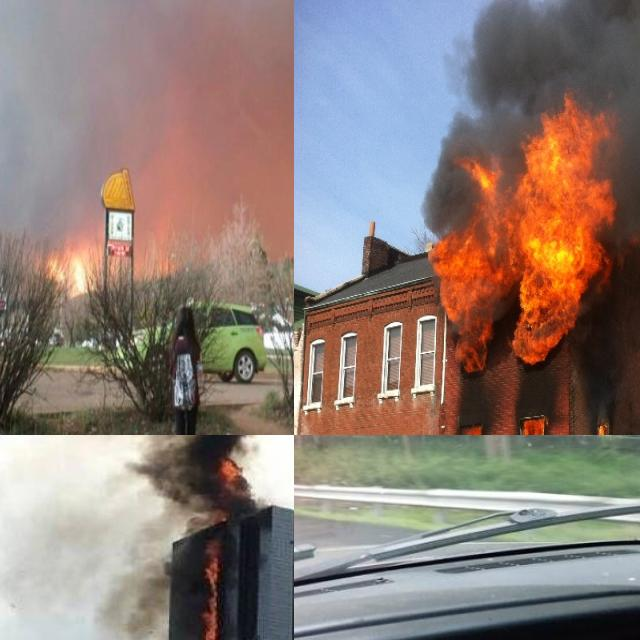fire: (432, 94, 624, 369), (48, 225, 104, 306), (206, 458, 256, 522), (193, 539, 218, 640), (516, 417, 543, 435)
smoke: (0, 0, 294, 247), (426, 0, 640, 307), (31, 435, 264, 500), (79, 521, 170, 640)
